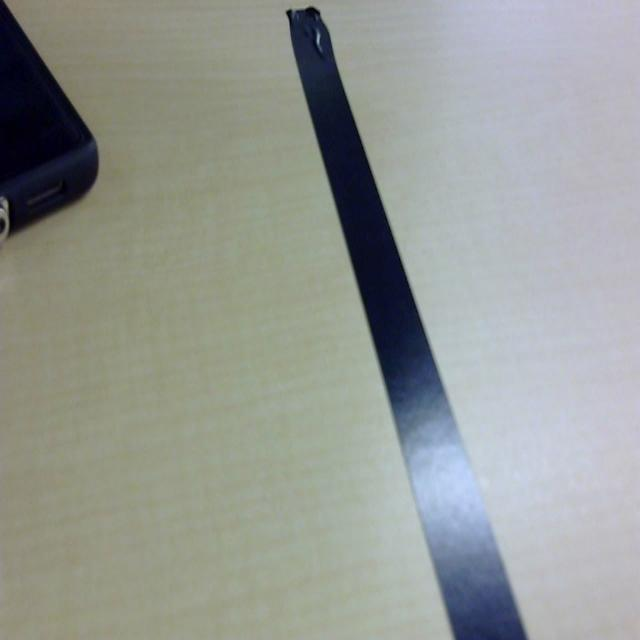tape: (272, 1, 540, 640)
